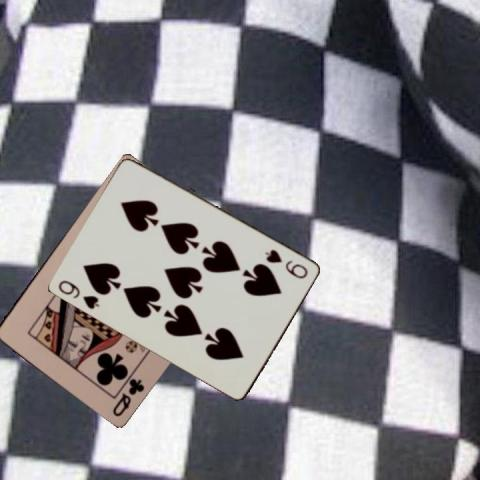9s: (262, 246, 310, 281), (56, 276, 102, 310)
Qc: (109, 375, 146, 417)
